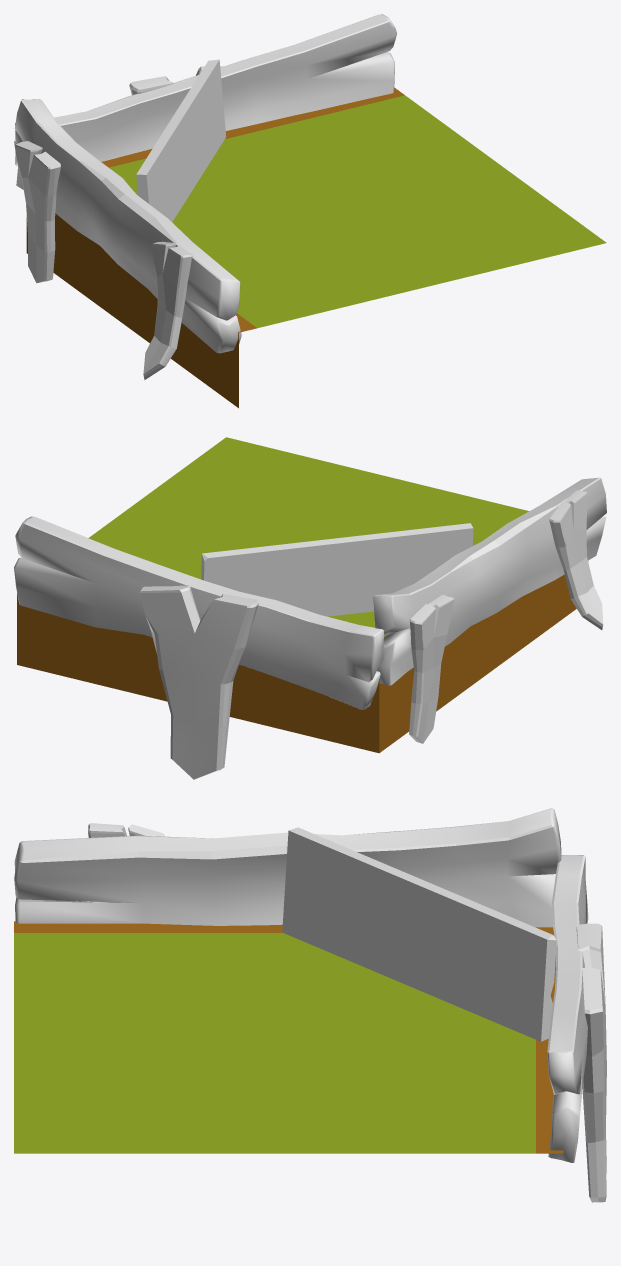
The model's file is SB_Turn45.fbx.
3 views of the same model, one above another, from view 1: azimuth 30°, elevation 25°; view 2: azimuth 150°, elevation 25°; view 3: azimuth 270°, elevation 25° (orthographic). The views are drawn at different scales.
Parts seen in each view (by area): view 1: SM_Bld_Sign_04; view 2: SM_Bld_Sign_04; view 3: SM_Bld_Sign_04.
Boxes of the visible parts, box(x1,y1,x2,y2) form: SM_Bld_Sign_04: box(14, 14, 606, 408); SM_Bld_Sign_04: box(14, 437, 606, 779); SM_Bld_Sign_04: box(14, 808, 606, 1202).
Bounding box in the file's own units: 230 × 112 × 216.
